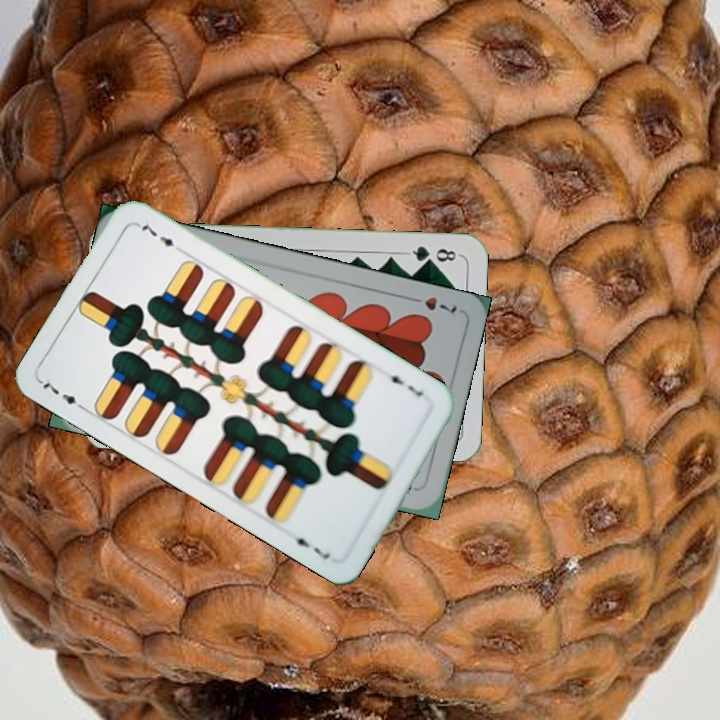E7: (37, 376, 90, 414), (383, 367, 426, 399)
G8: (403, 241, 462, 266)
H7: (403, 292, 460, 316)
